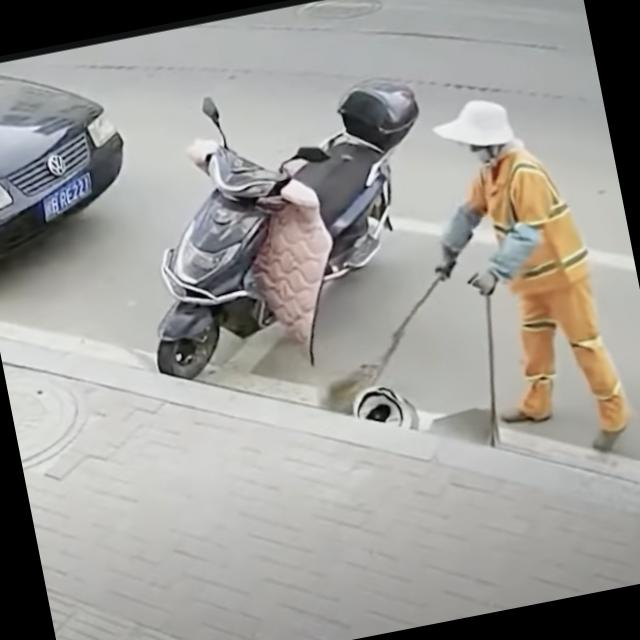person: (404, 79, 640, 474)
